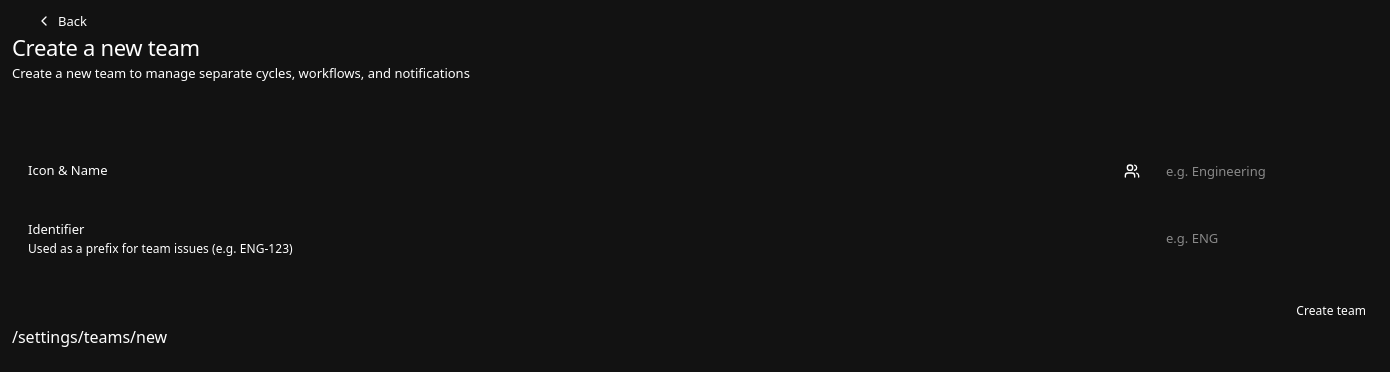
TeamCreatePage › key inválida mostra o erro e desabilita o envio
This screenshot has width=1390, height=372.
Type "Platform" into the field labelled "Icon & Name" at (1258, 171), box [1154, 155, 1362, 187]
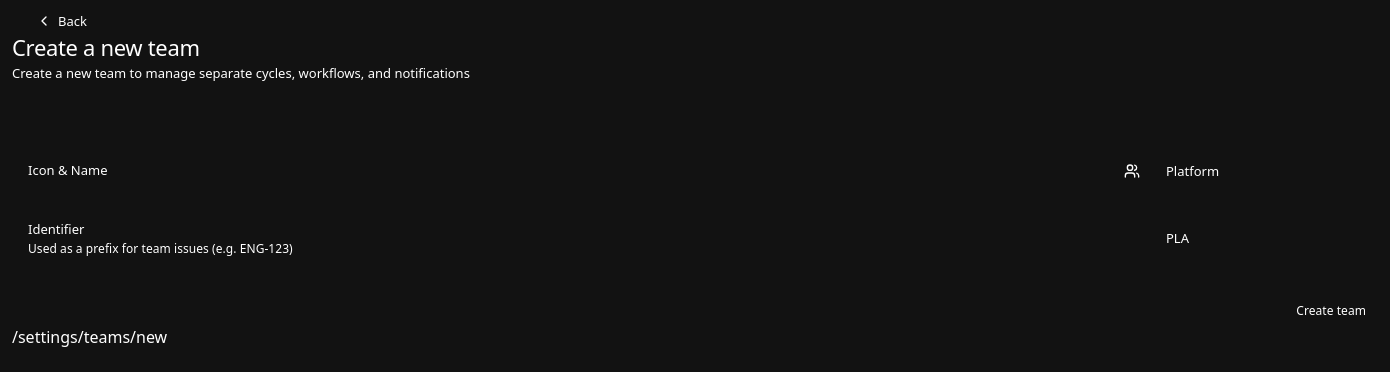
Replace the text in the field labelled "Identifier" with "1AB" at (1258, 238), box [1154, 222, 1362, 254]
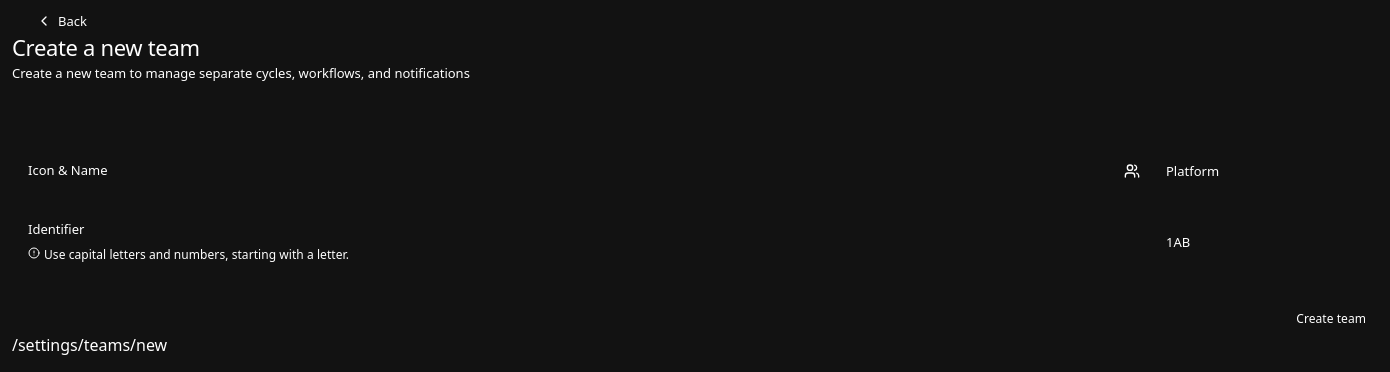
Now the button "Create team" is disabled, box [1284, 305, 1378, 333]
